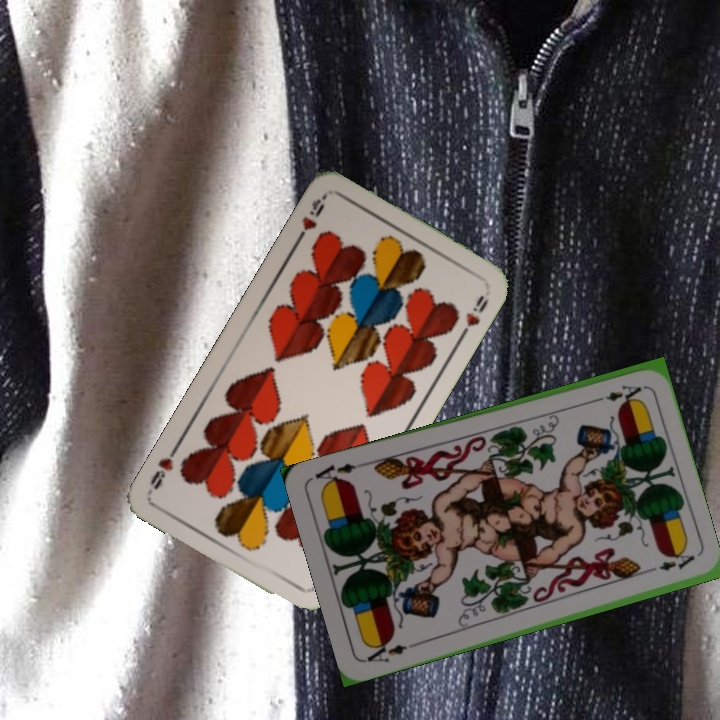EA: (363, 636, 419, 665), (588, 380, 645, 406)
H9: (292, 191, 330, 245)
